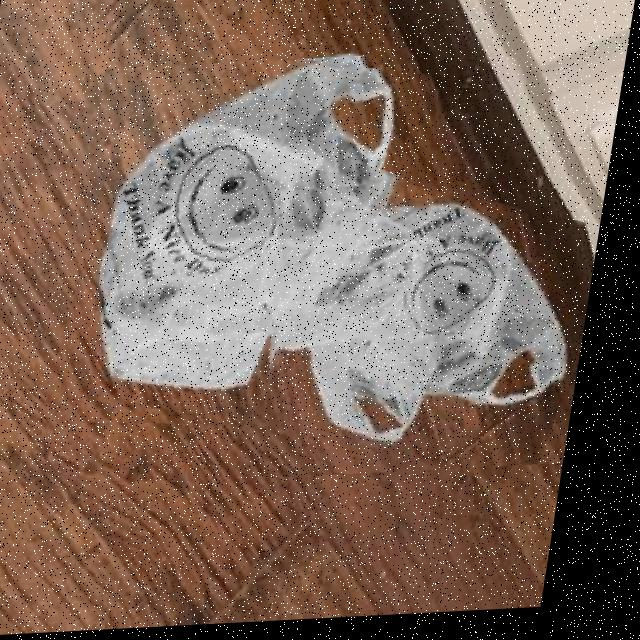litter: (61, 56, 447, 444), (251, 174, 615, 483)
